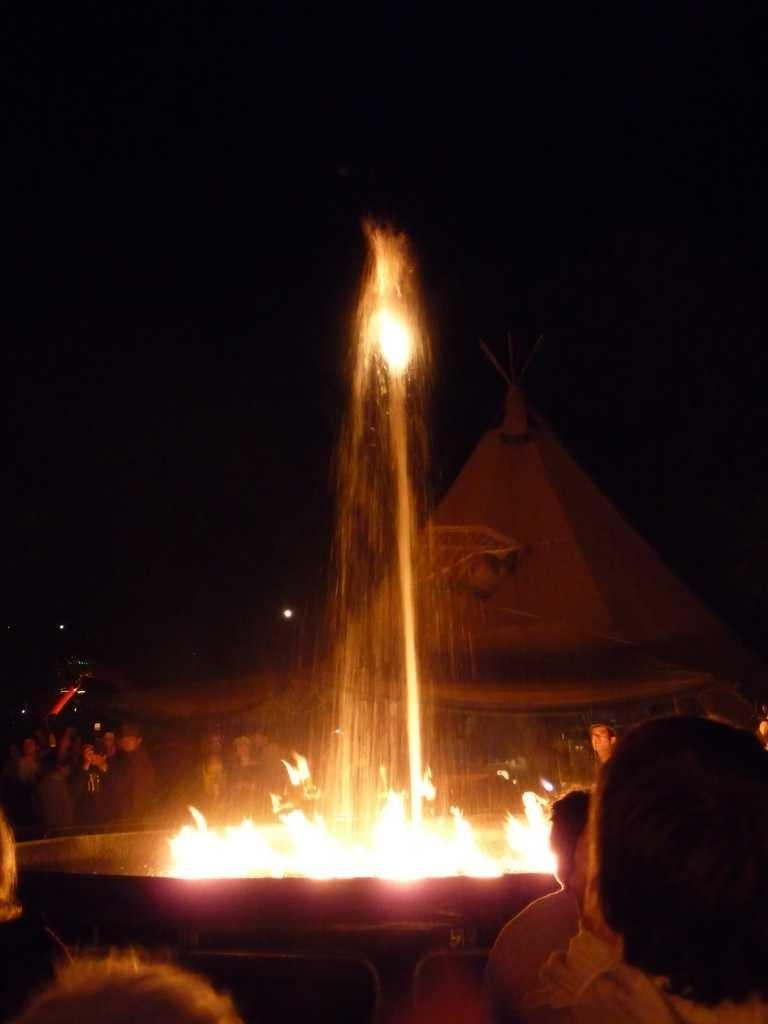fire: (185, 825, 465, 875)
